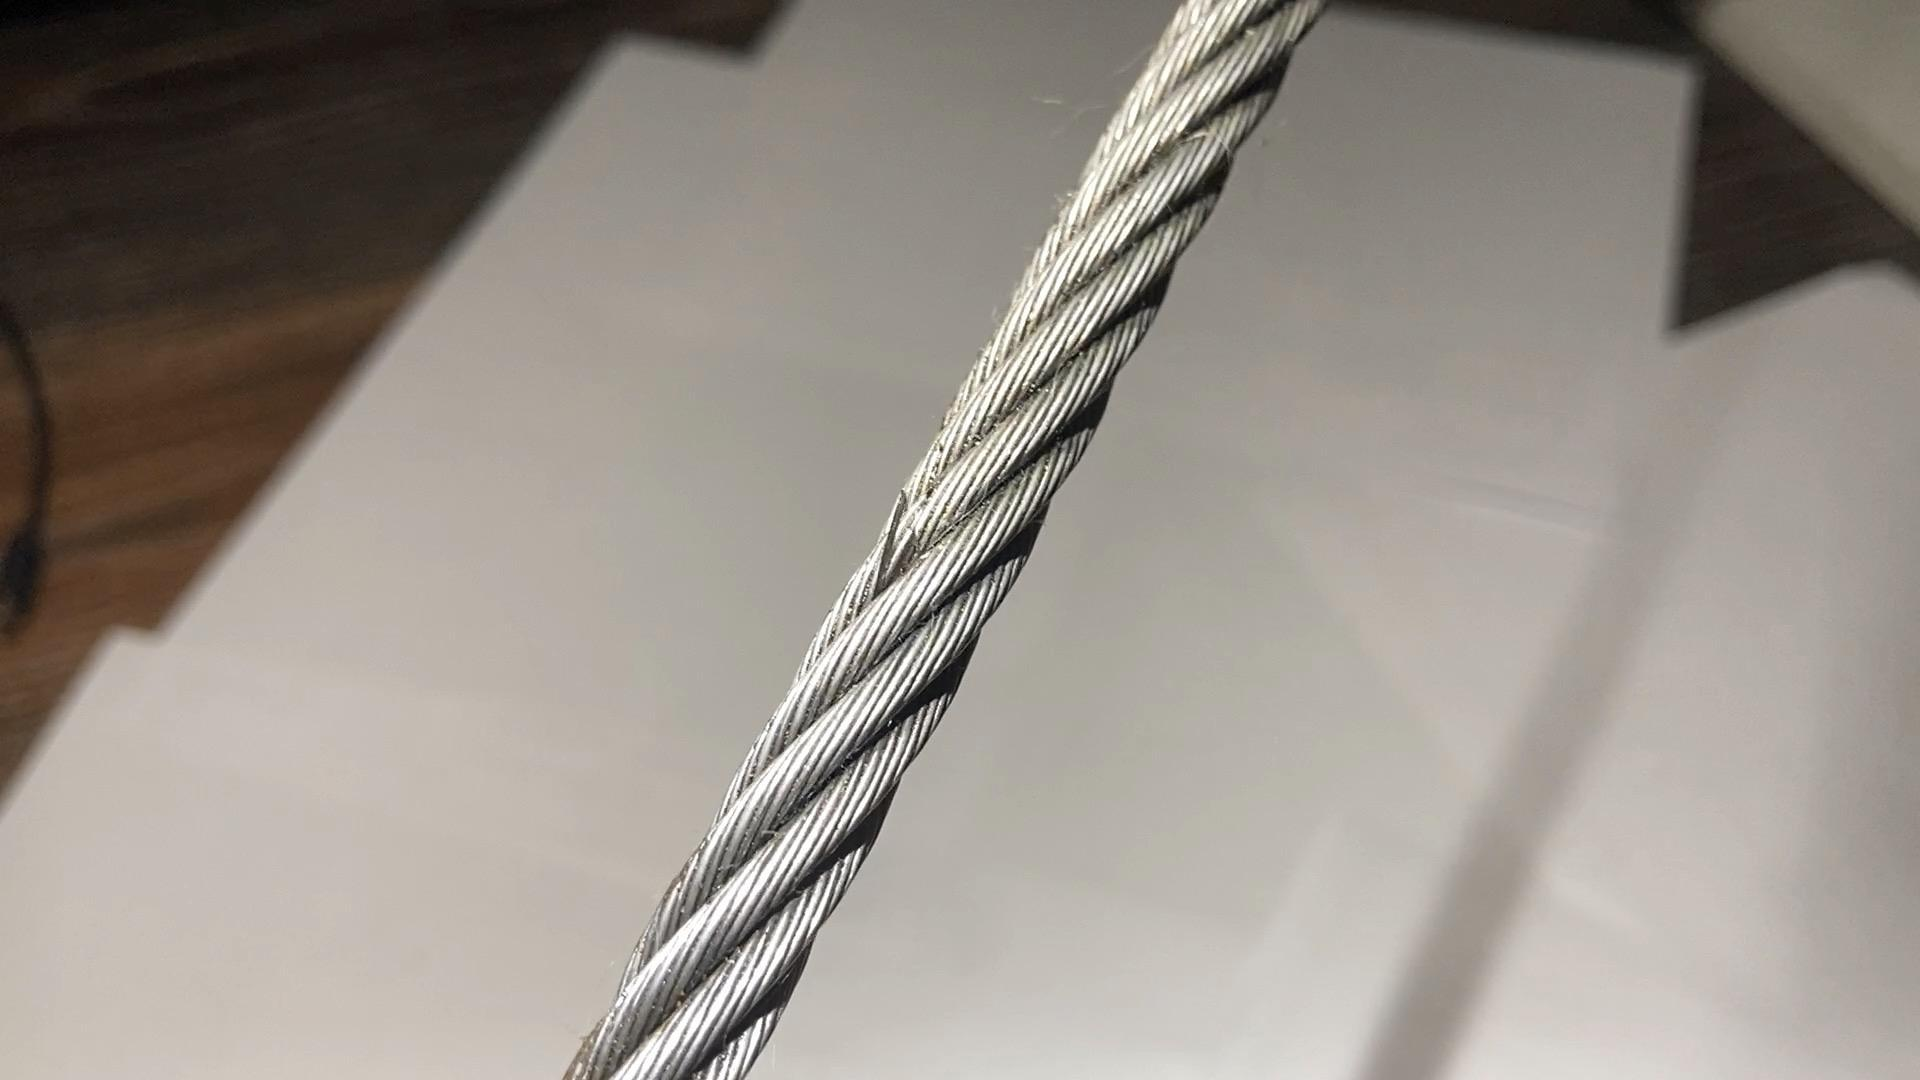break: (855, 477, 928, 587)
